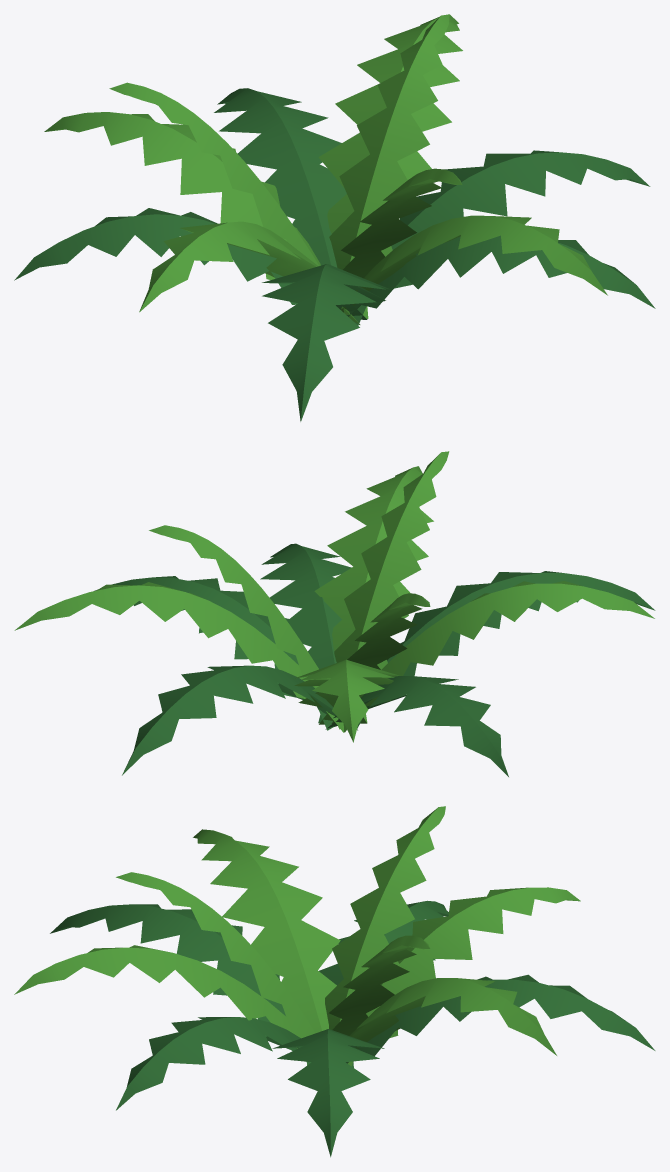
Rendered from fern-pixor.glb.
The picture shows the model from 3 angles, top to bottom: view 1: azimuth 30°, elevation 25°; view 2: azimuth 150°, elevation 25°; view 3: azimuth 270°, elevation 25°; orthographic projection. The views are drawn at different scales.
Parts seen in each view (by area): view 1: Fern fronds; view 2: Fern fronds; view 3: Fern fronds.
Part boxes in pixels (x1,y1,x2,y2): Fern fronds: (14,14,655,421); Fern fronds: (14,451,655,776); Fern fronds: (14,806,655,1157).
Size of the model in its own units: 1.06 by 0.388 by 1.13.
